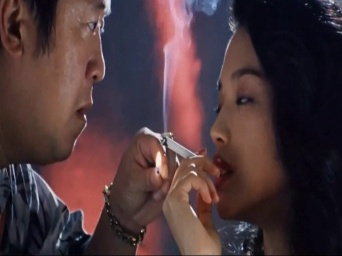smoke: (162, 133, 204, 165)
